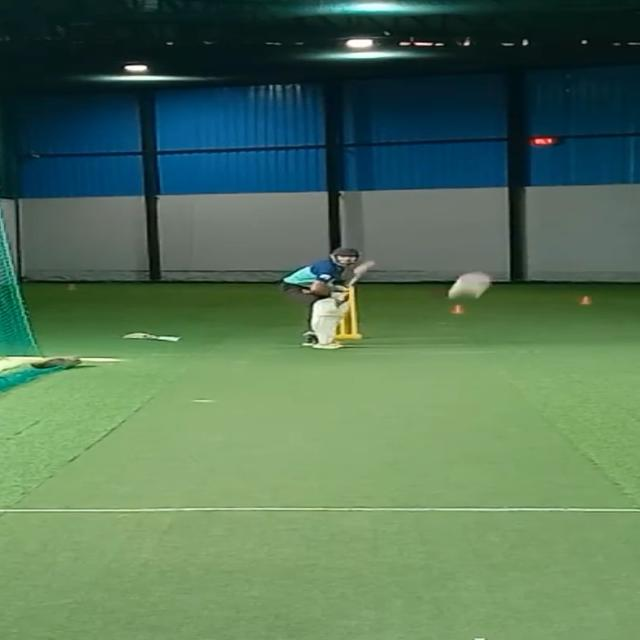ball: (444, 282, 485, 306)
stump: (332, 289, 361, 339)
